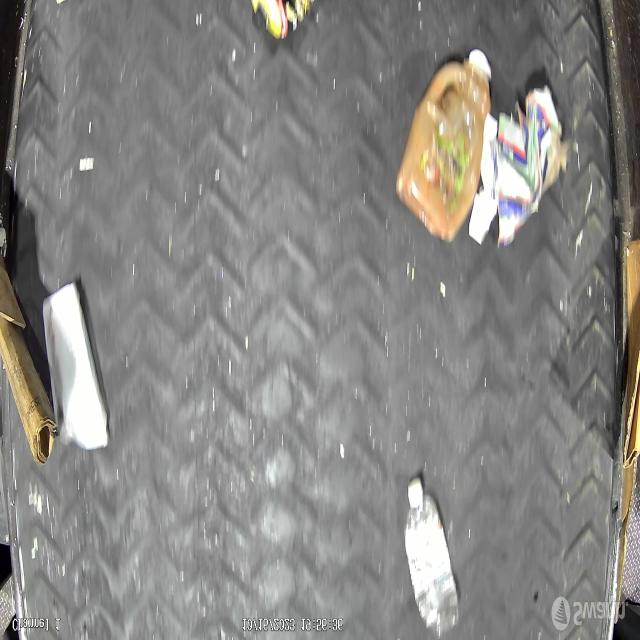non_white_jug: (394, 44, 496, 246)
plastic_bottle: (402, 476, 458, 640)
